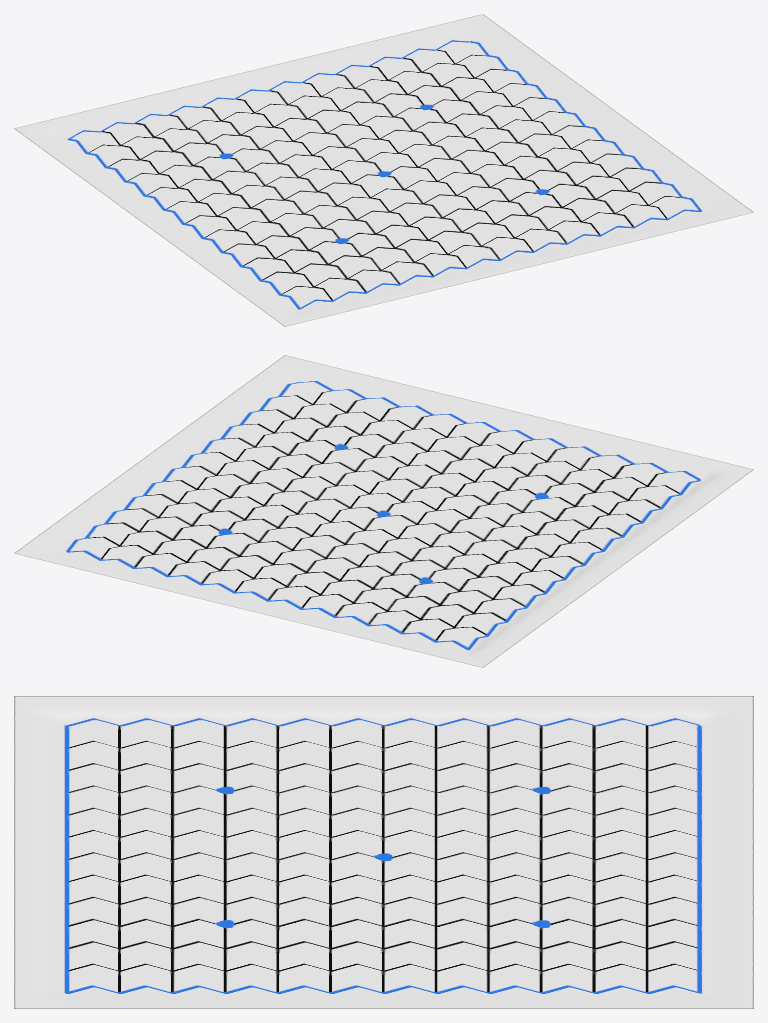
The model's file is x13_ver2.fbx.
The picture shows the model from 3 angles, top to bottom: view 1: azimuth 30°, elevation 25°; view 2: azimuth 150°, elevation 25°; view 3: azimuth 270°, elevation 25°; orthographic projection. The views are drawn at different scales.
Visible parts, largest first — view 1: x13; view 2: x13; view 3: x13.
Boxes of the visible parts, x1,y1,x2,y2 form: x13: (14,14,753,326); x13: (14,355,753,667); x13: (14,696,753,1008).
Size of the model in its own units: 1400 by 15.1 by 1400.
1 material, 1 textured.
